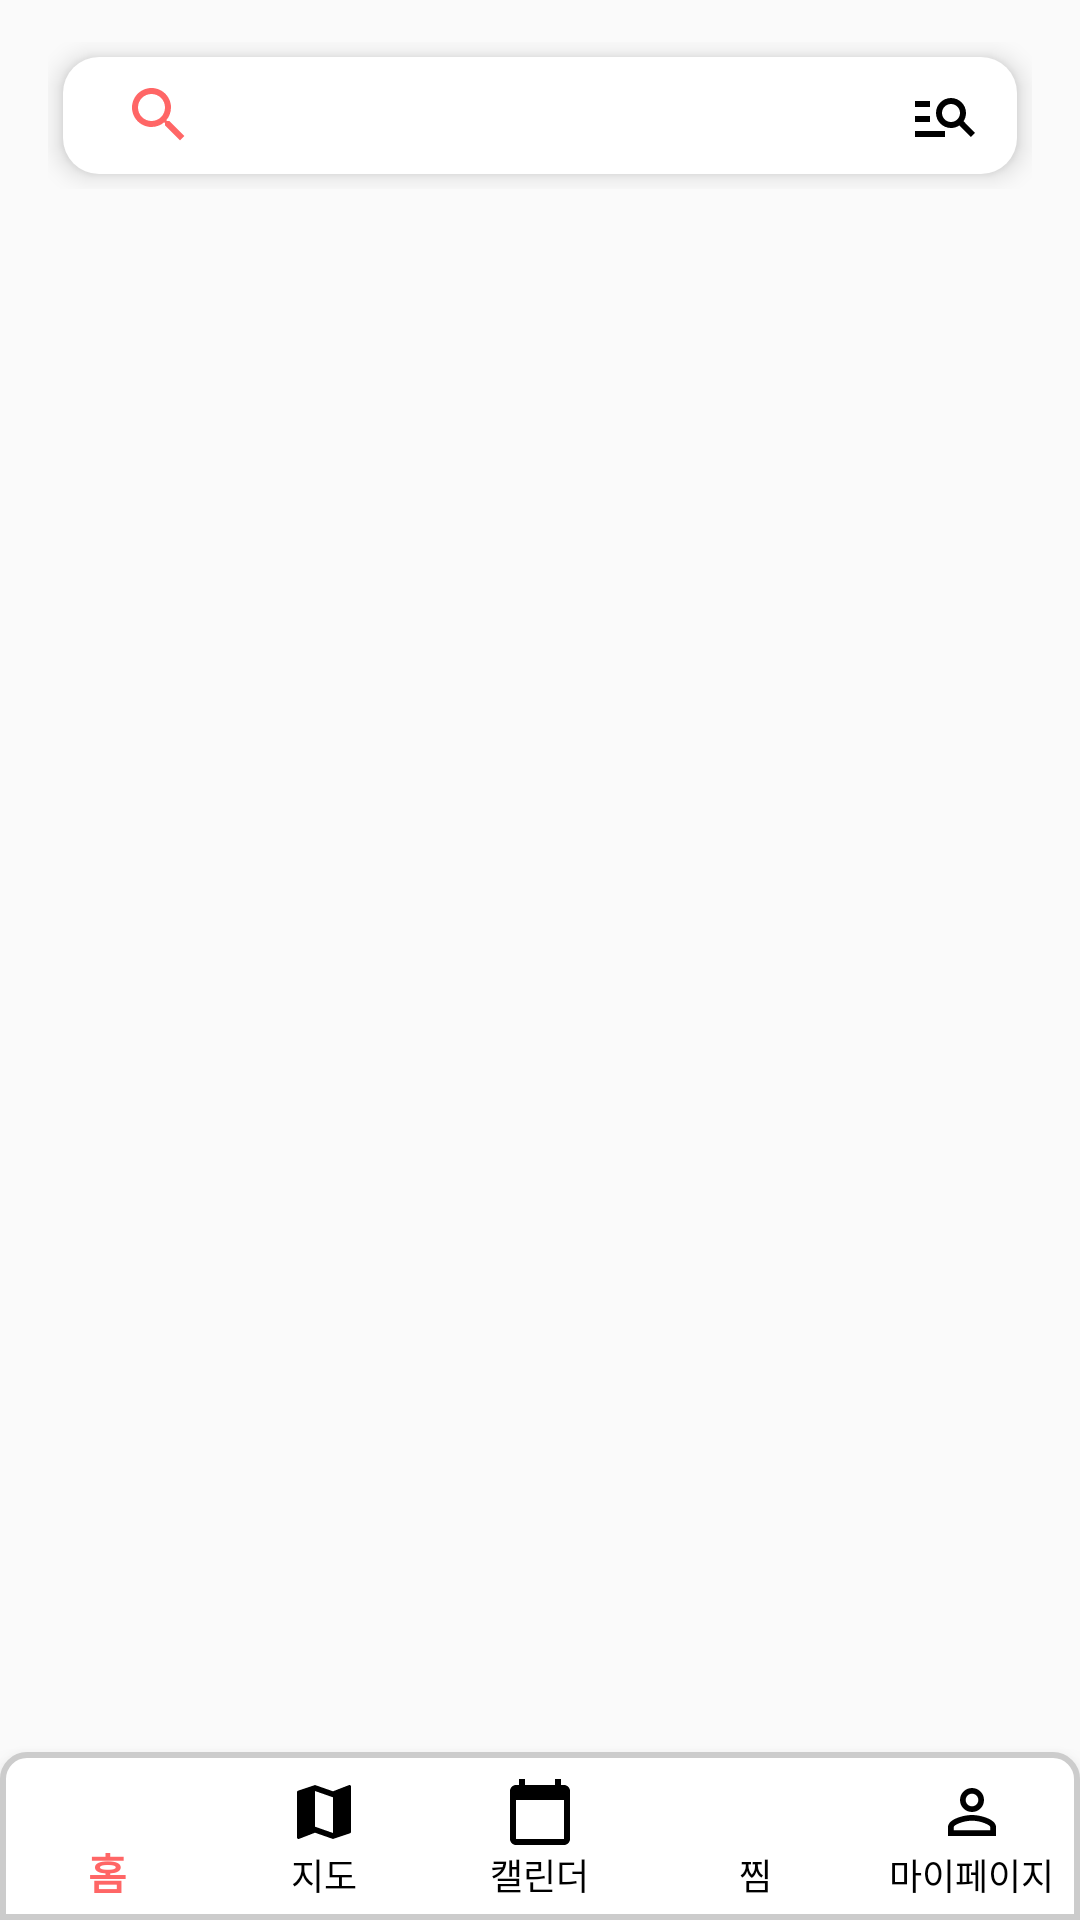

Where to tap for icons on this 1080*1920 app screen, as point (x, y):
search option: point (945, 116)
